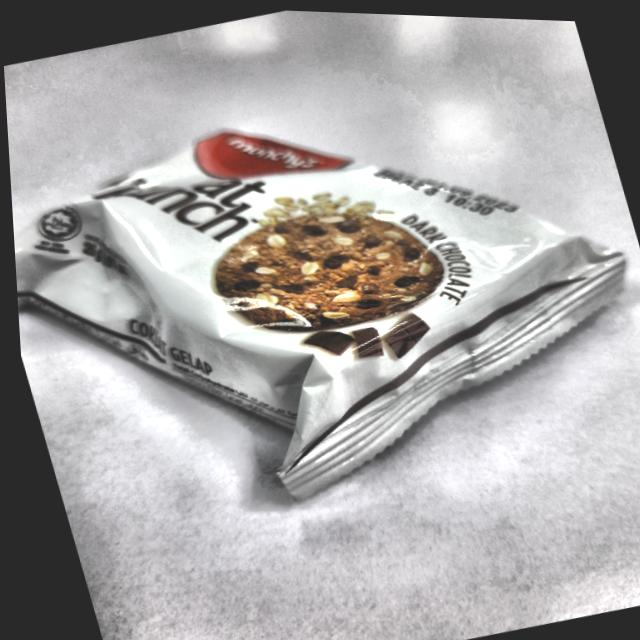Plastic: (2, 48, 142, 148)
